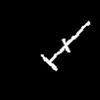double_crochet: (41, 21, 89, 70)
